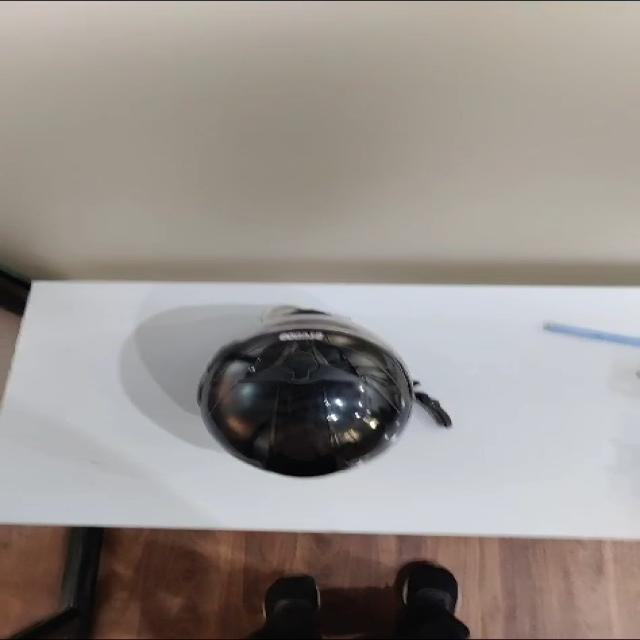helmet: (187, 329, 422, 492)
